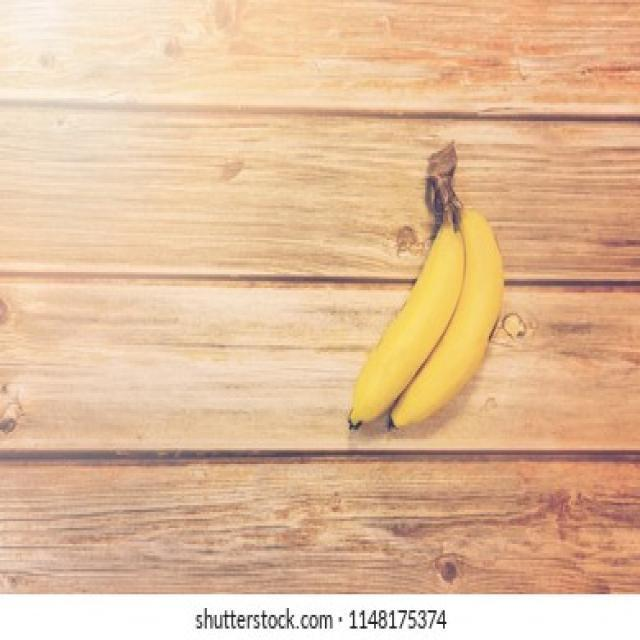Banana: (344, 142, 510, 438)
